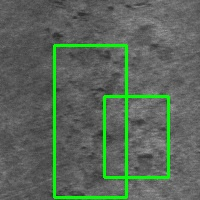rolled-in_scale: (54, 45, 126, 197), (104, 96, 168, 177)
